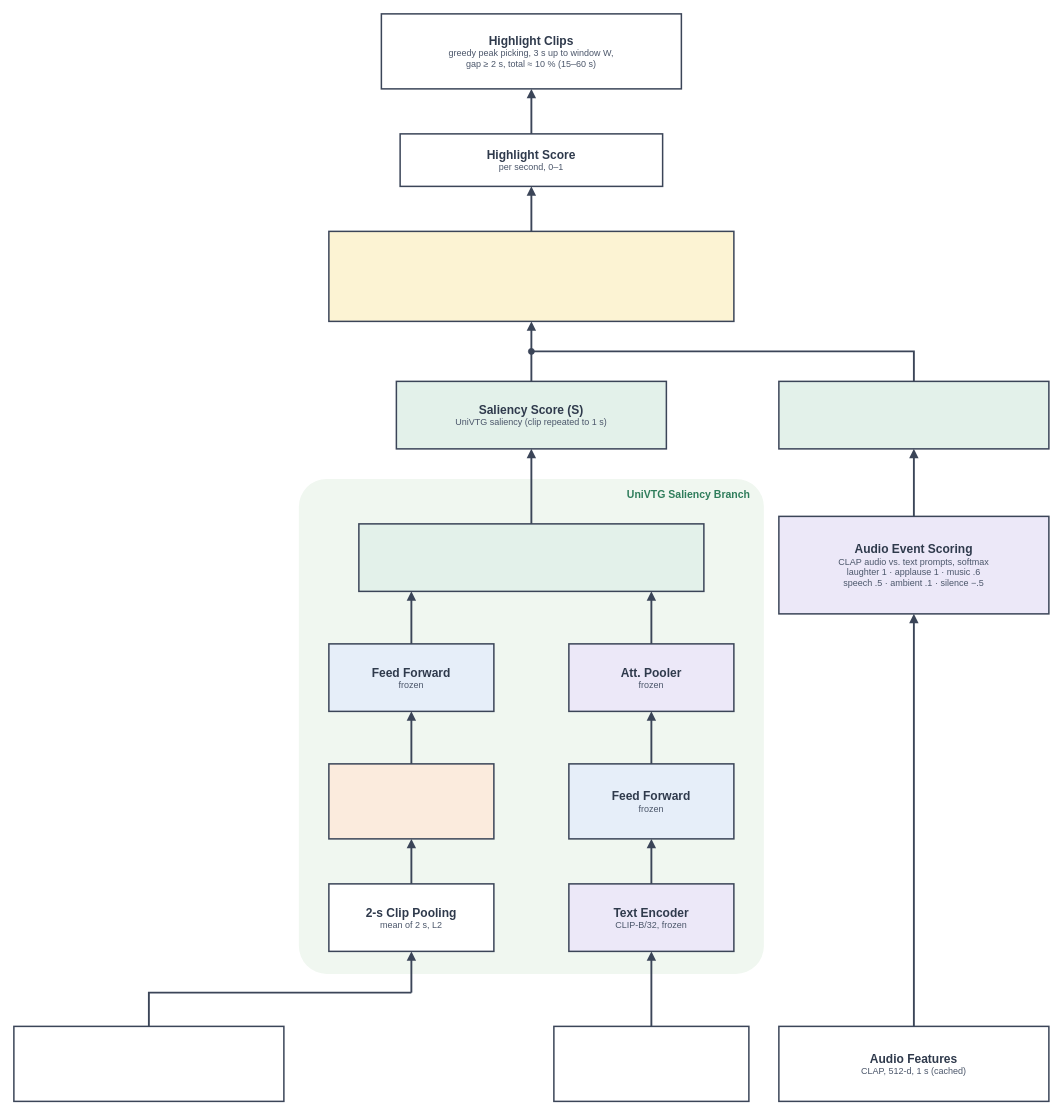
Some shapes in this 1062 by 1115 pixel diagram are drawn without their labels. The shapes that lost their labels are listed below. From the top down, each one's centre as x and y in pixels, then its label:
the point at 531,276: Weighted Late Fusion 0.7 S + 0.3 A each term rank-normalised, smoothed 3 s
the point at 913,414: Audio Score (A)
the point at 531,557: Similarity Score cosine(video token, pooled query)
the point at 411,801: Linear Adapter 768 → 512 (trained)
the point at 148,1063: Visual Features CLIP ViT-L/14, 768-d, 1 s (cached)
the point at 651,1063: Video Title file name
